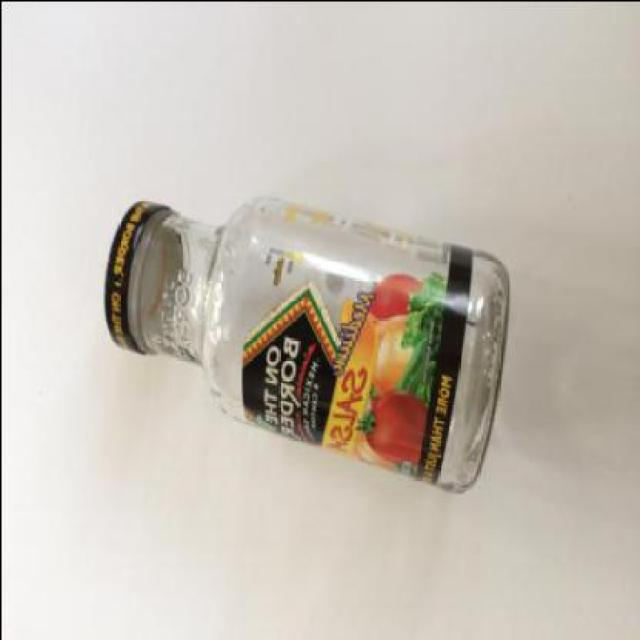glass: (125, 202, 506, 496)
metal: (103, 202, 182, 356)
